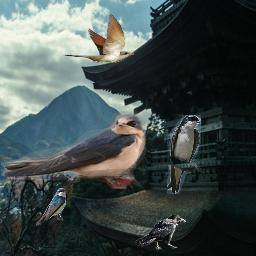Crow: (135, 214, 186, 251)
Cuckoo: (63, 14, 134, 63)
Swallow: (1, 110, 146, 189), (167, 115, 201, 194), (35, 187, 67, 226)
